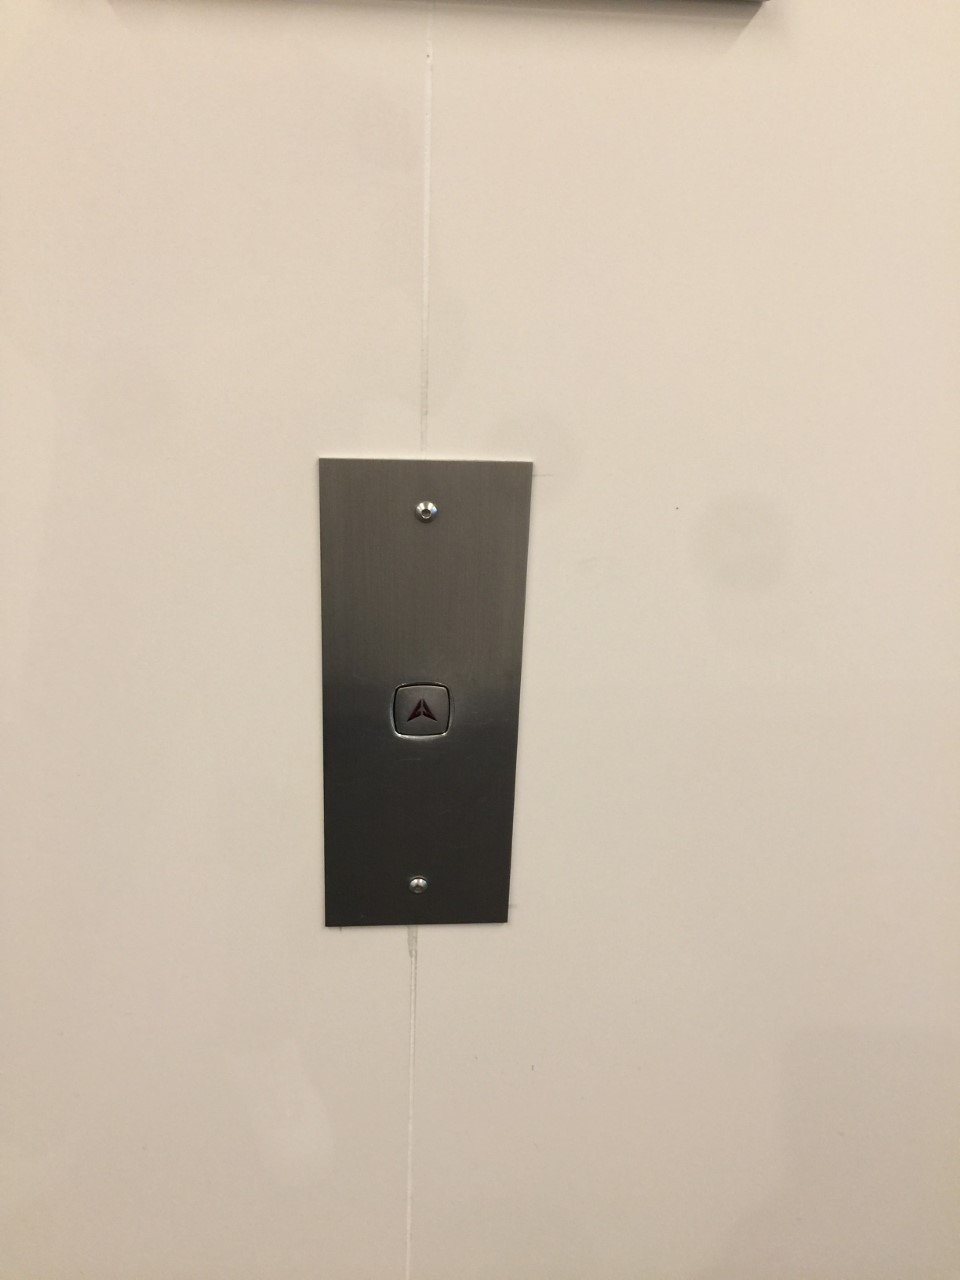button: (385, 679, 458, 742)
